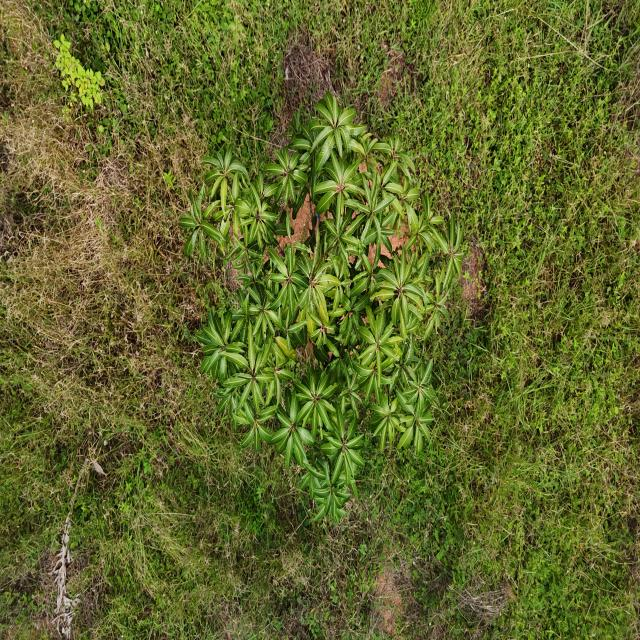mangoTree: (178, 86, 468, 526)
